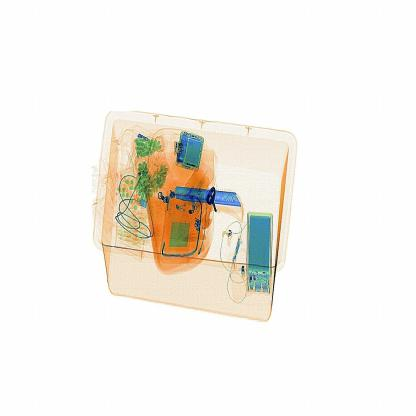pliers: (174, 182, 248, 207)
